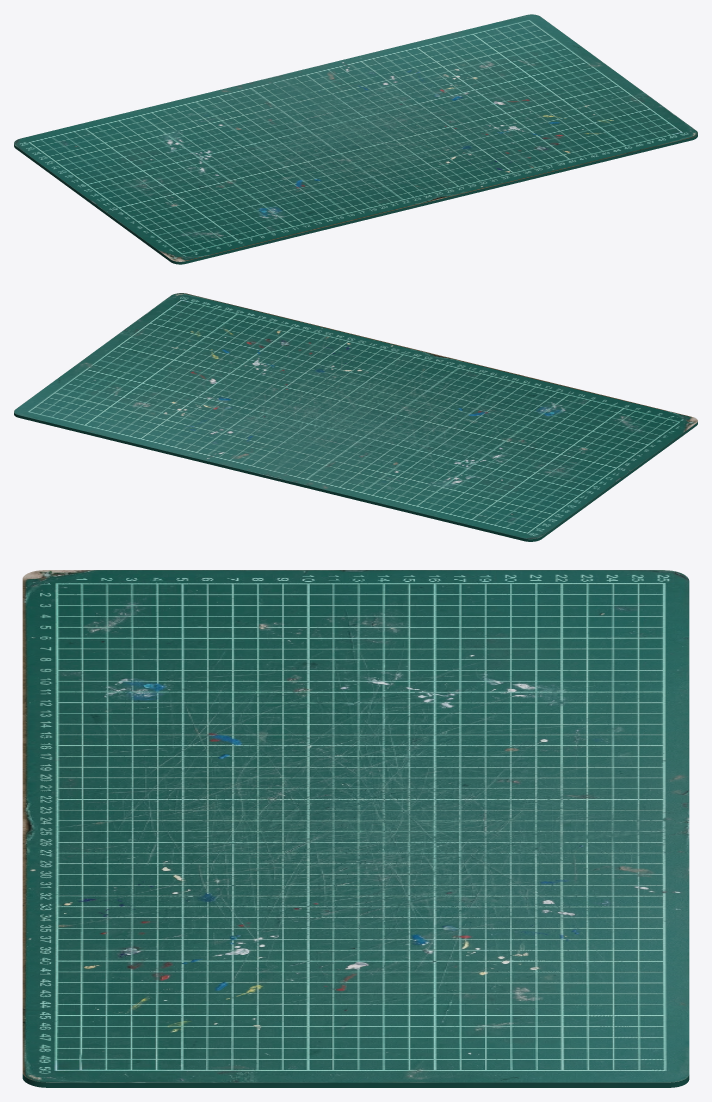
Rendered from Cutting Mat.fbx.
The picture shows the model from 3 angles, top to bottom: view 1: azimuth 30°, elevation 25°; view 2: azimuth 150°, elevation 25°; view 3: azimuth 270°, elevation 25°; orthographic projection. The views are drawn at different scales.
Visible parts, largest first — view 1: Cutting Mat; view 2: Cutting Mat; view 3: Cutting Mat.
Boxes of the visible parts, x1=… form: Cutting Mat: x1=14, y1=14, x2=697, y2=264; Cutting Mat: x1=14, y1=293, x2=697, y2=541; Cutting Mat: x1=22, y1=570, x2=689, y2=1087.
Bounding box in the file's own units: 50.02 × 0.243 × 27.5.
